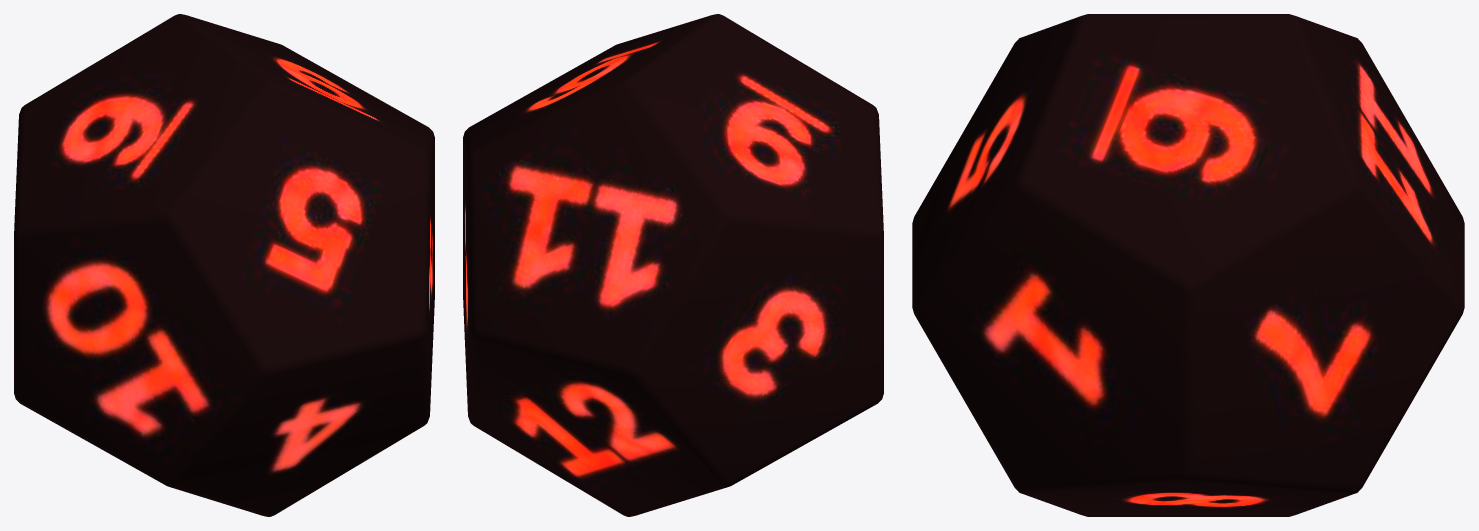
3 views of the same model, side by side, from view 1: azimuth 30°, elevation 25°; view 2: azimuth 150°, elevation 25°; view 3: azimuth 270°, elevation 25° (orthographic). The views are drawn at different scales.
Visible parts, largest first — view 1: 12Yellow; view 2: 12Yellow; view 3: 12Yellow.
Part boxes in pixels (x1,y1,x2,y2): 12Yellow: (14, 14, 434, 516); 12Yellow: (463, 14, 883, 516); 12Yellow: (912, 14, 1464, 516).
Size of the model in its own units: 1.41 by 1.41 by 1.41.
1 material, 1 textured.
